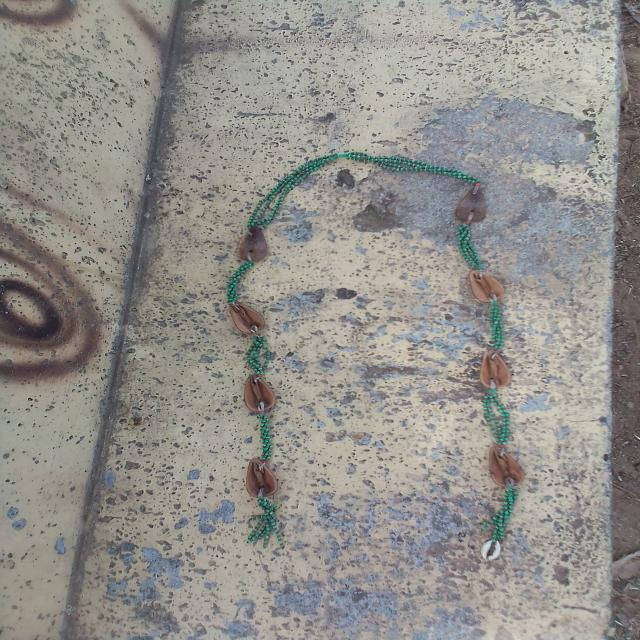facedown: (451, 177, 491, 232), (235, 218, 270, 266)
faceup: (482, 443, 528, 495), (226, 299, 273, 339), (466, 268, 510, 307), (242, 458, 280, 502), (474, 350, 515, 390), (242, 372, 278, 417)
